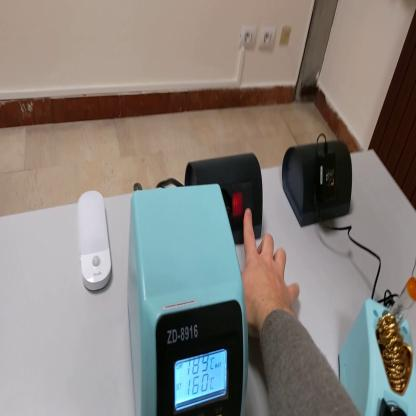hand: (241, 209, 299, 327)
socket: (187, 152, 264, 251), (280, 140, 356, 228)
welder base: (344, 275, 416, 416)
welder station: (128, 184, 250, 416)
